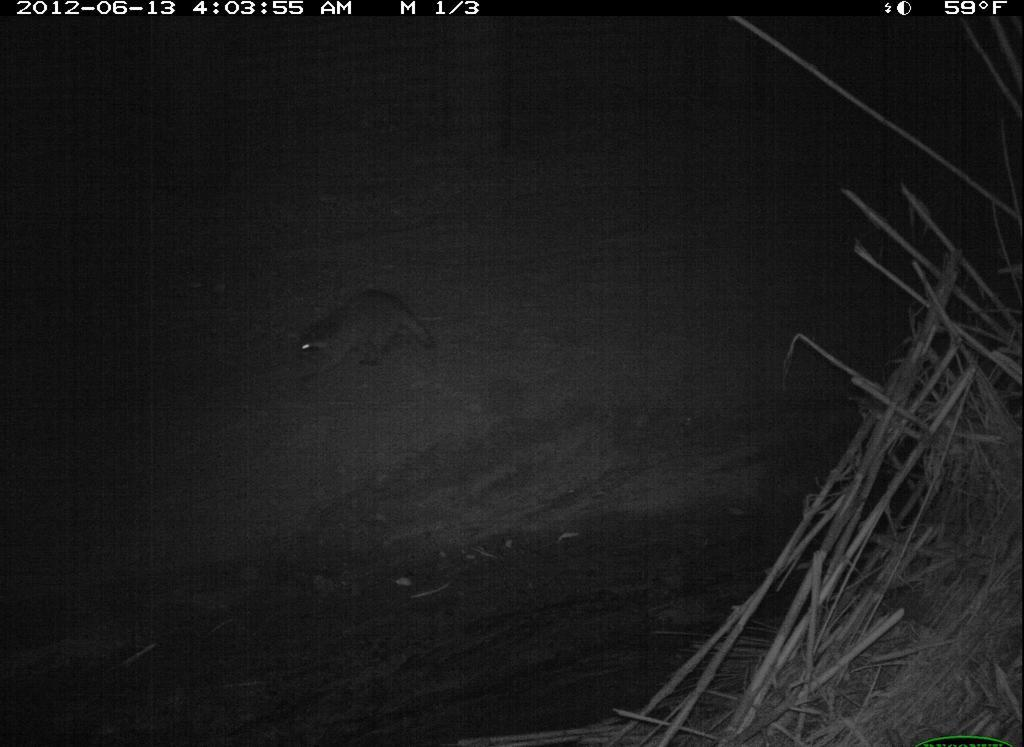raccoon: (290, 278, 446, 392)
